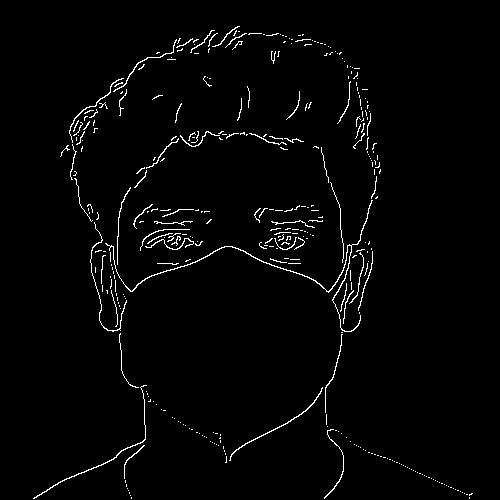mask: (123, 243, 347, 461)
